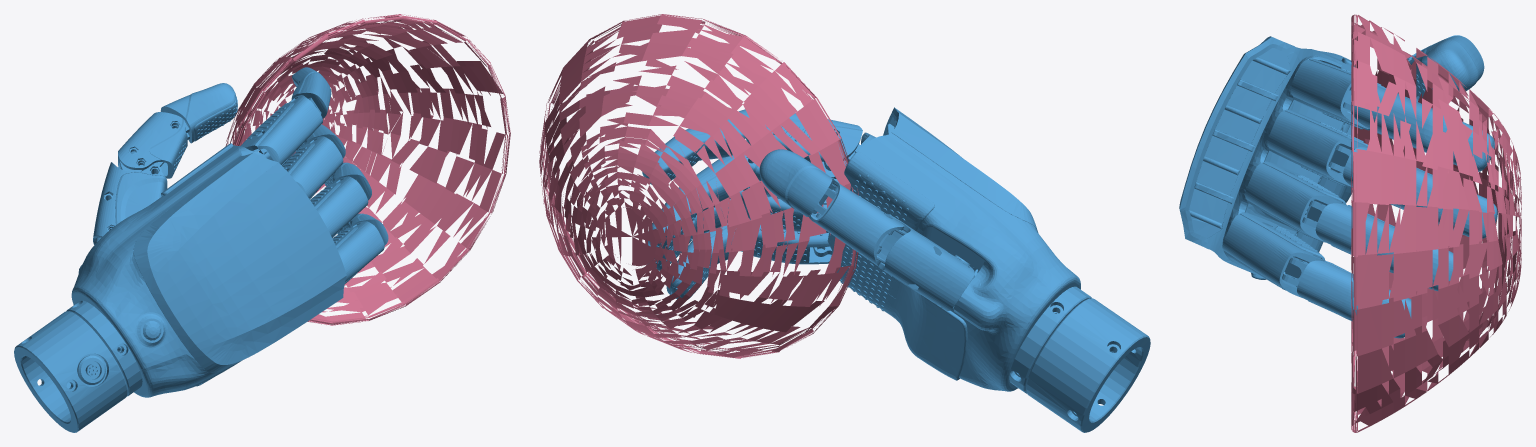
3 views of the same model, side by side, from view 1: azimuth 30°, elevation 25°; view 2: azimuth 150°, elevation 25°; view 3: azimuth 270°, elevation 25° (orthographic). The views are drawn at different scales.
Parts seen in each view (by area): view 1: 0; view 2: 0; view 3: 0.
Boxes of the visible parts, x1=… form: 0: x1=14, y1=14, x2=510, y2=432; 0: x1=539, y1=14, x2=1150, y2=432; 0: x1=1179, y1=14, x2=1521, y2=432.
Size of the model in its own units: 0.279 by 0.1619 by 0.1287.
